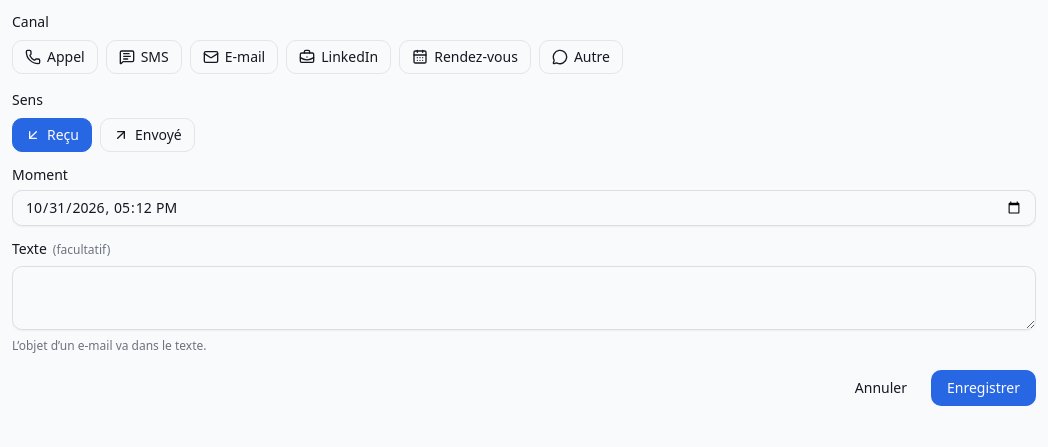
Test: ExchangeForm › asks for the channel before sending
The width and height of the screenshot is (1048, 447).
Click the button "Enregistrer" at (984, 388), box [931, 370, 1036, 406]
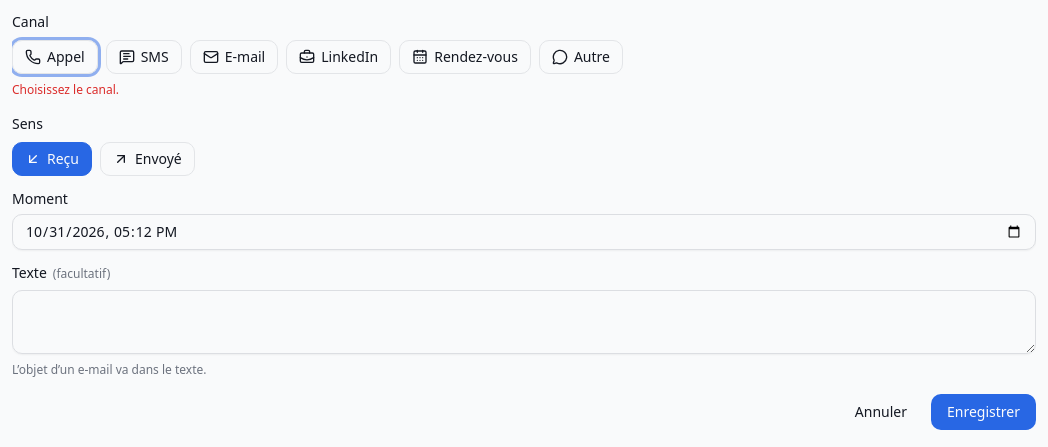
Check: the text "Choisissez le canal." is shown, box [12, 81, 119, 98]
